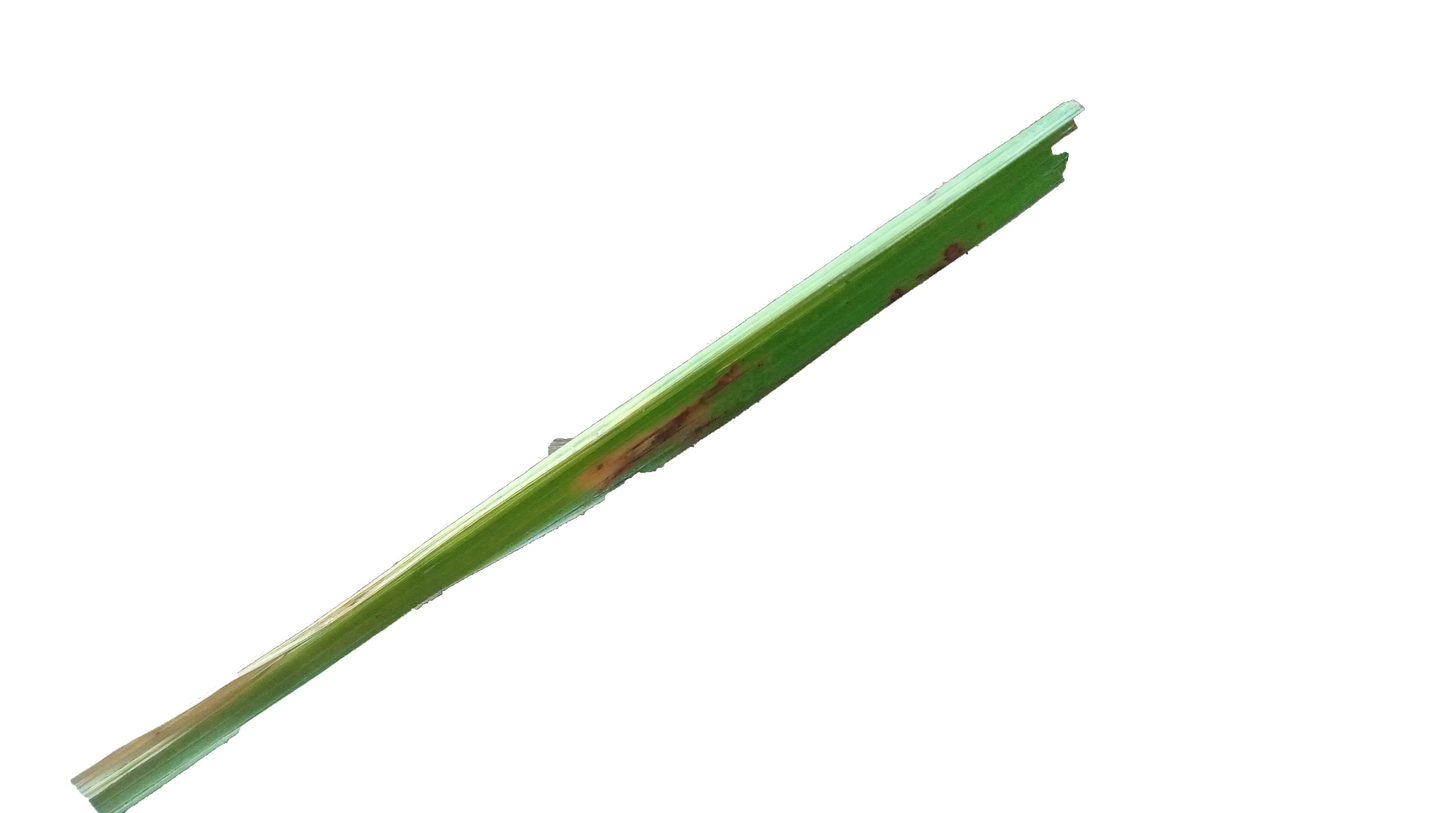Rice blast: (551, 342, 773, 511), (874, 227, 983, 309)
